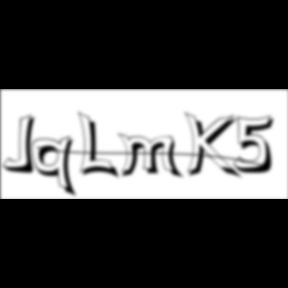5: (234, 114, 280, 176)
J: (3, 114, 42, 176)
K: (184, 110, 244, 182)
L: (78, 110, 122, 182)
m: (118, 132, 186, 181)
q: (32, 135, 80, 200)
